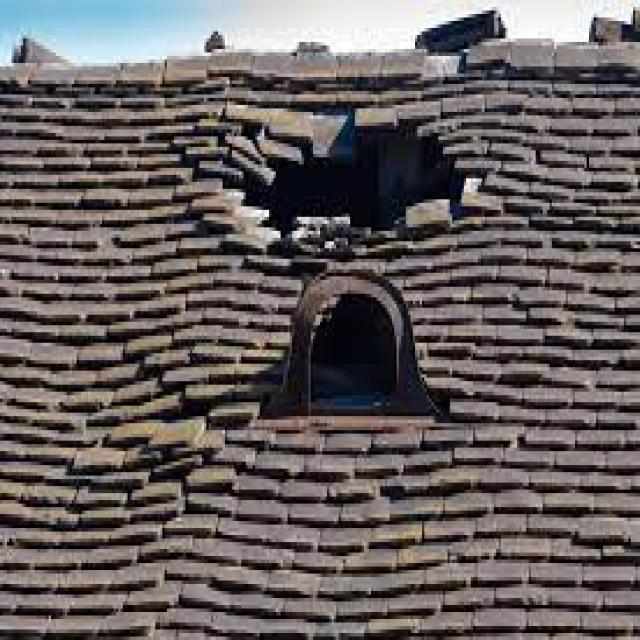damaged_roof: (205, 97, 490, 252)
